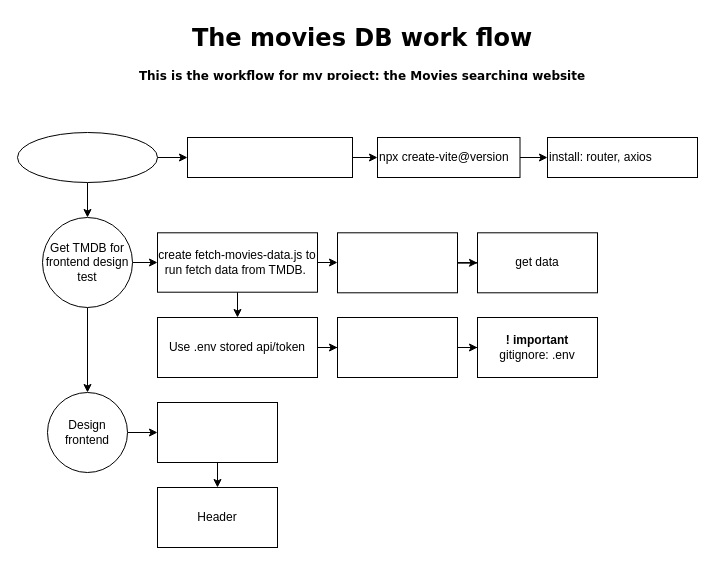
Image size: 715x565. Some labels were removed from this diagram. Each missing label, with the centre of its shape:
"Components" belongs at pixel 217 432.
"npm -v npm install supersimpledev" belongs at pixel 269 157.
"npm install axios fs fs: working with file" belongs at pixel 397 262.
"npm install dotenv (to load env)" belongs at pixel 397 347.
"Set up react app" belongs at pixel 87 157.
